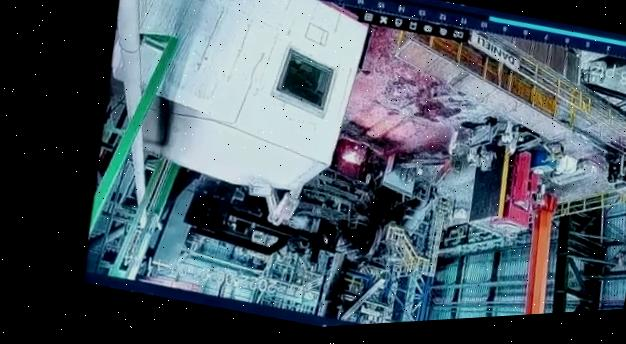fire: (321, 128, 383, 180)
